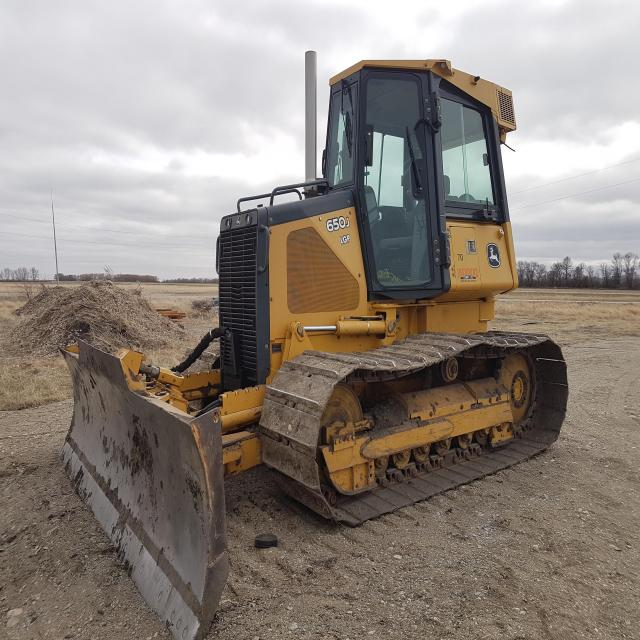Bulldozer: (49, 21, 591, 628)
